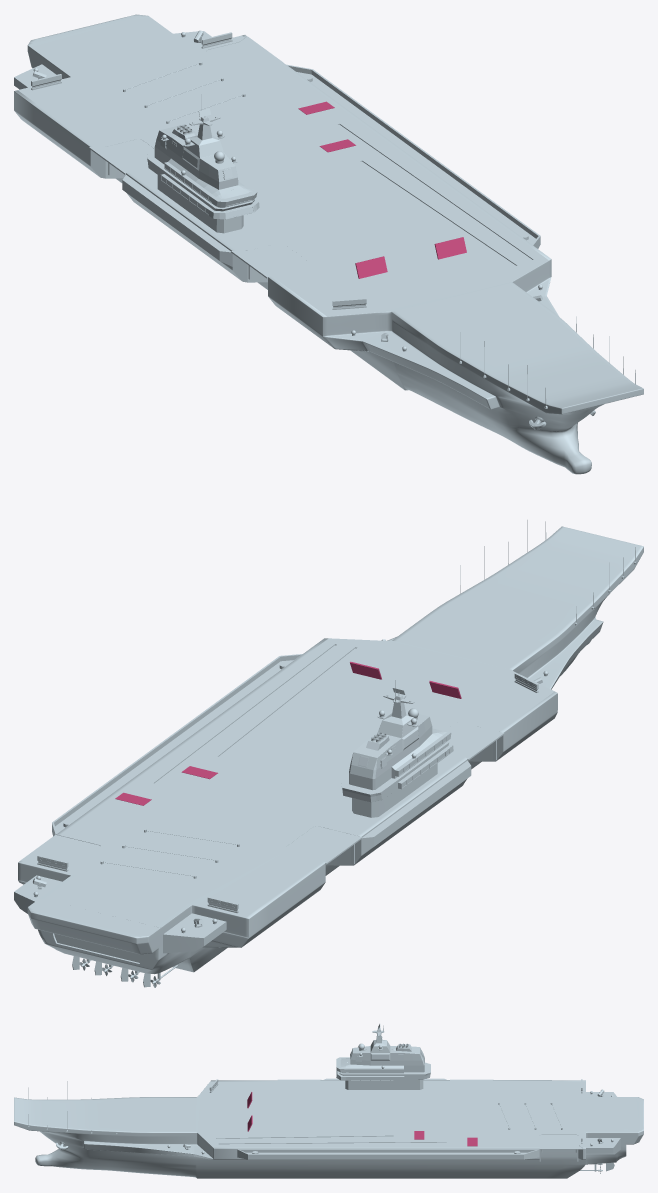
File: junjian.gltf
3 views of the same model, one above another, from view 1: azimuth 30°, elevation 25°; view 2: azimuth 150°, elevation 25°; view 3: azimuth 270°, elevation 25° (orthographic). The views are drawn at different scales.
Parts seen in each view (by area): view 1: __________; view 2: __________; view 3: __________.
Boxes of the visible parts, x1,y1,x2,y2 form: __________: (14,14,643,474); __________: (14,520,643,987); __________: (14,1024,643,1178).
Size of the model in its own units: 0.1914 by 0.141 by 0.6713.
